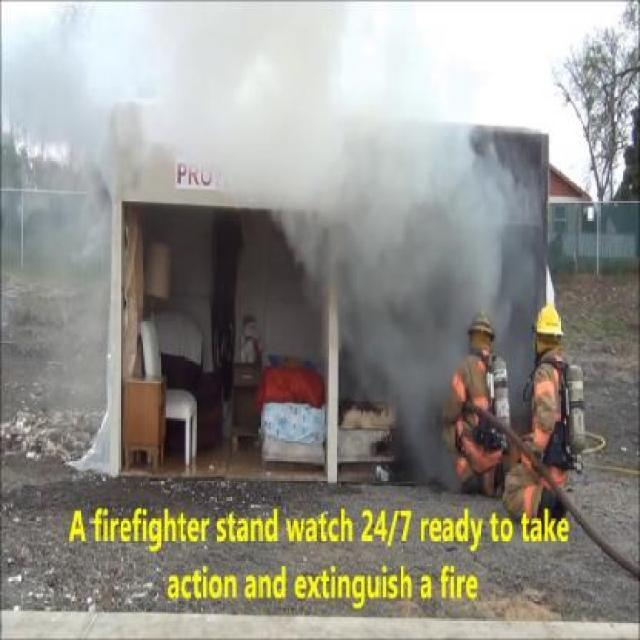smoke: (172, 52, 585, 471)
